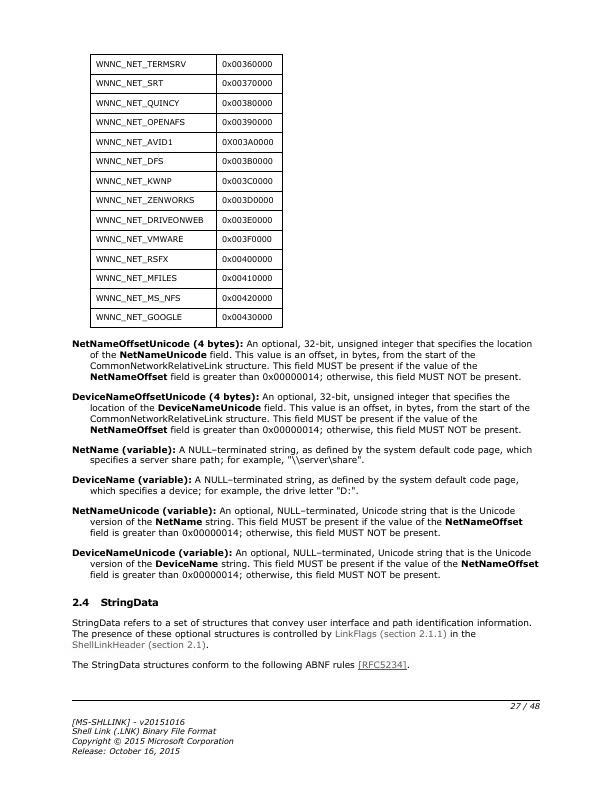table: (88, 52, 284, 331)
text: (68, 337, 533, 384), (68, 391, 532, 436), (68, 616, 533, 652), (68, 546, 540, 581), (68, 504, 523, 539), (70, 443, 533, 465), (68, 473, 518, 495), (68, 715, 235, 755), (68, 658, 414, 672), (68, 596, 160, 610)
